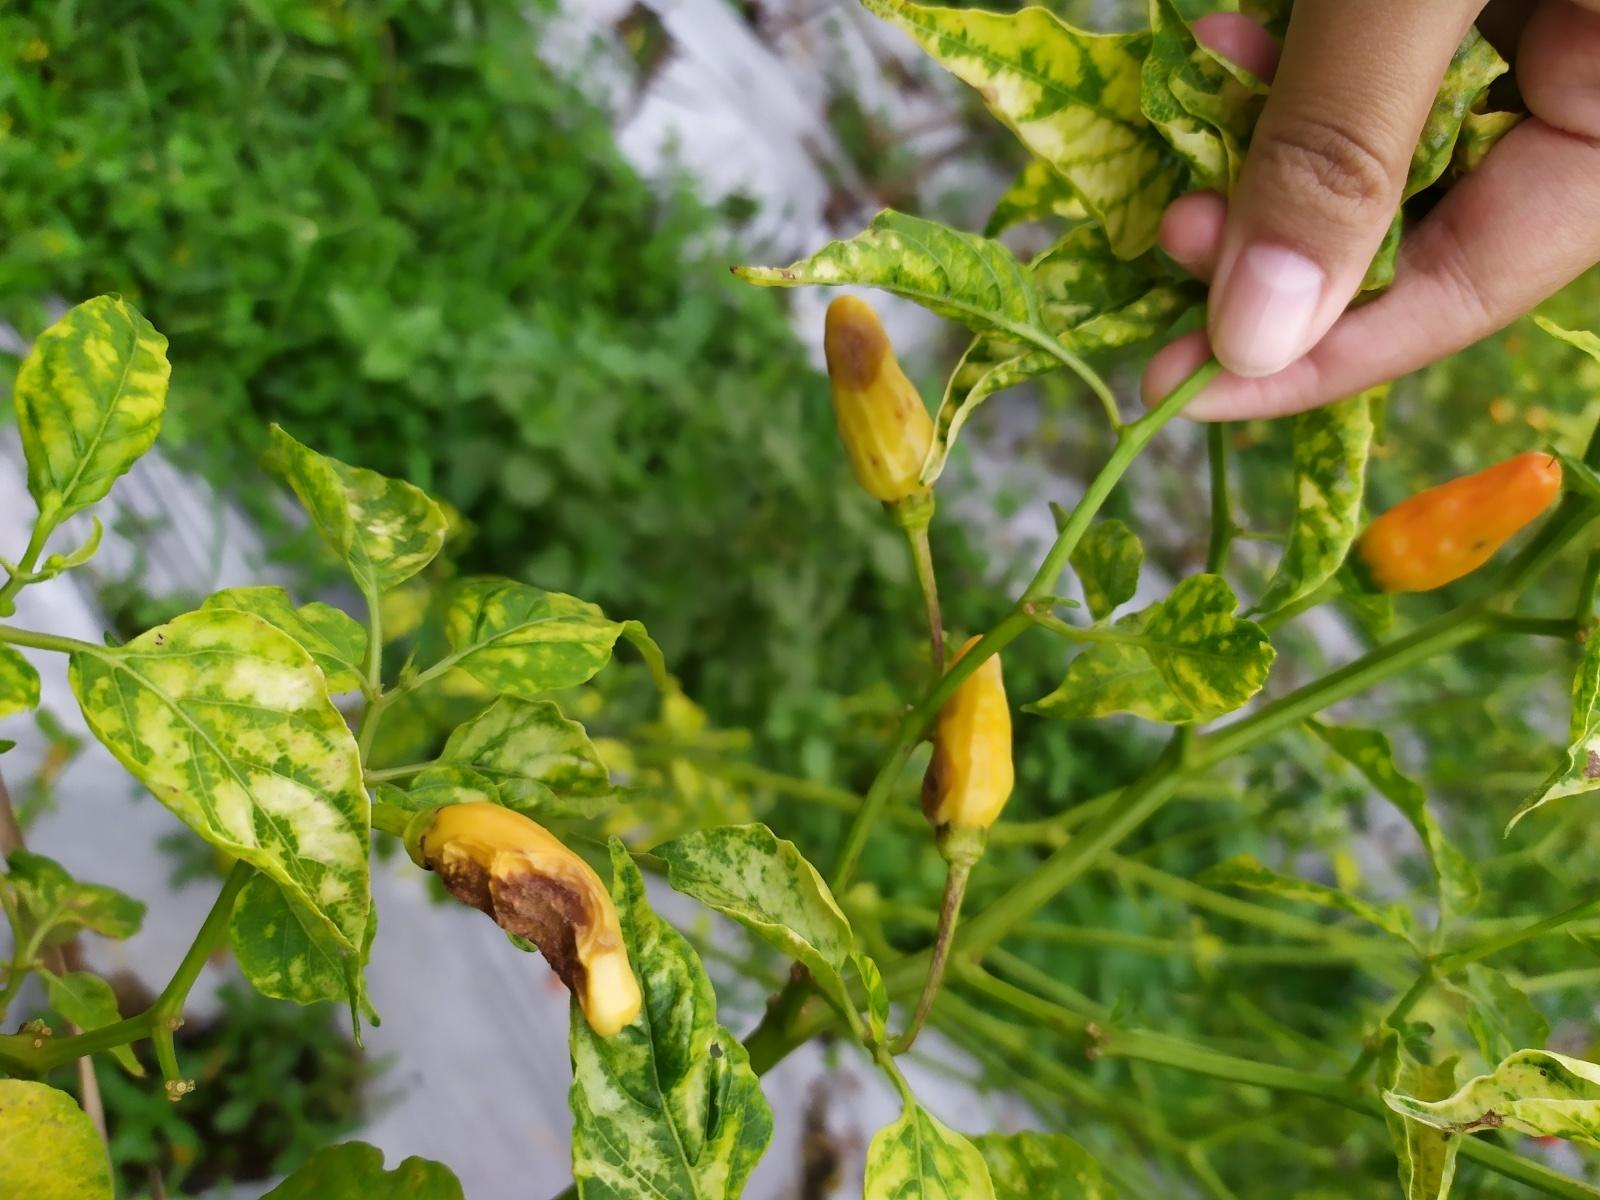antraknosa: (409, 804, 644, 1036), (823, 295, 935, 502)
cabai_normal: (1356, 453, 1562, 594)
lalat_buah: (918, 634, 1015, 832)
